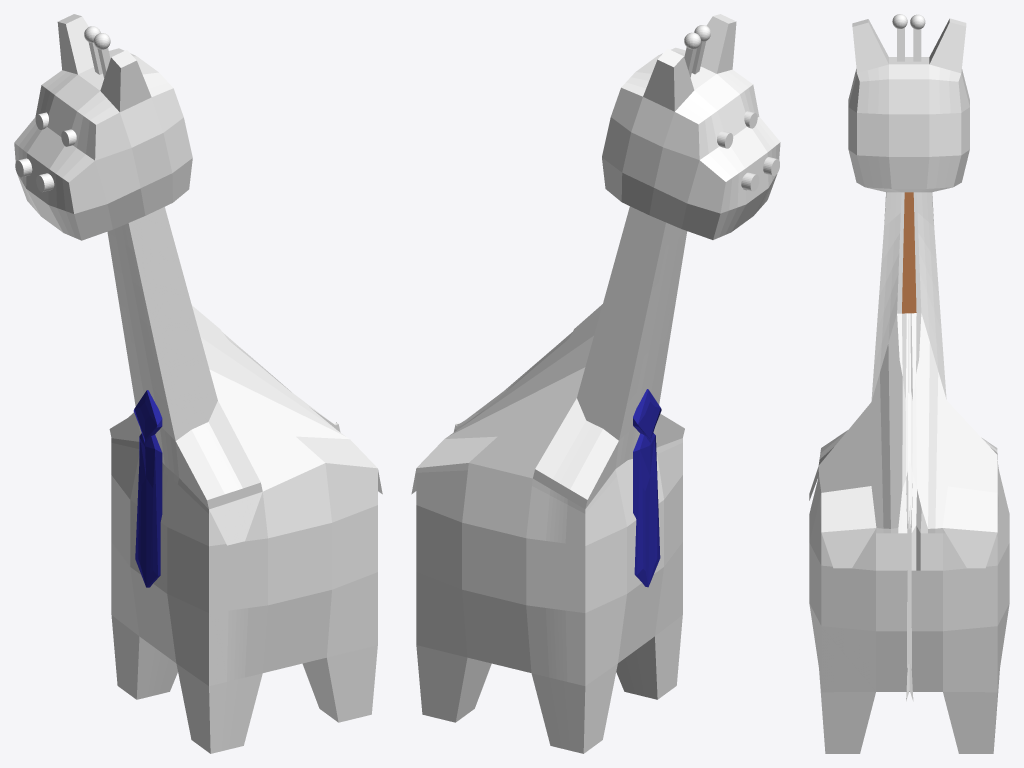
File: rafrafwalking_stropdas.gltf
3 views of the same model, side by side, from view 1: azimuth 30°, elevation 25°; view 2: azimuth 150°, elevation 25°; view 3: azimuth 270°, elevation 25° (orthographic). The views are drawn at different scales.
Parts seen in each view (by area): view 1: Cube, Cube.002, Cube.005, Cube.001, Cube.003; view 2: Cube, Cube.003, Cube.005, Cube.004, Cube.002; view 3: Cube, Cube.001, Cube.004.
Boxes of the visible parts, <box> form: Cube: <box>14,14,382,686</box>; Cube.002: <box>176,663,262,753</box>; Cube.005: <box>133,390,162,587</box>; Cube.001: <box>302,645,377,722</box>; Cube.003: <box>111,615,177,699</box>; Cube: <box>411,14,780,685</box>; Cube.003: <box>531,663,617,753</box>; Cube.005: <box>633,389,661,587</box>; Cube.004: <box>416,645,491,722</box>; Cube.002: <box>616,615,682,699</box>; Cube: <box>809,14,1009,701</box>; Cube.001: <box>819,670,875,753</box>; Cube.004: <box>943,670,999,753</box>.
Bounding box in the file's own units: 3.61 × 7.03 × 2.
Materials: 7 (1 with a texture image).
